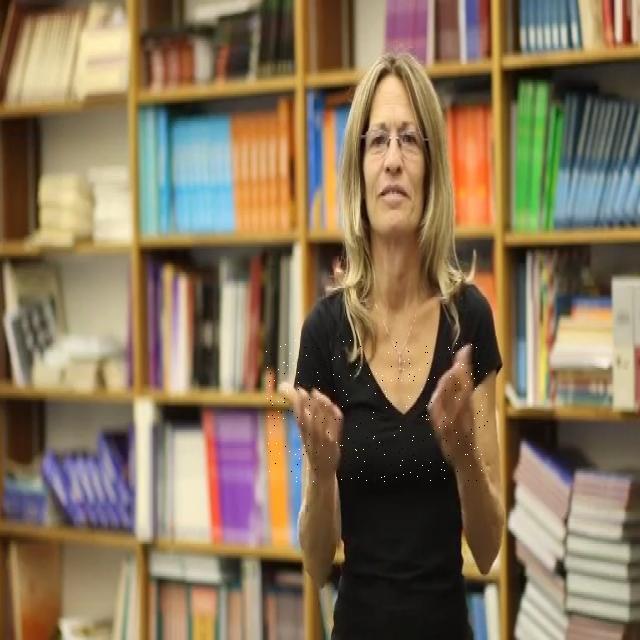what: (266, 340, 488, 482)
